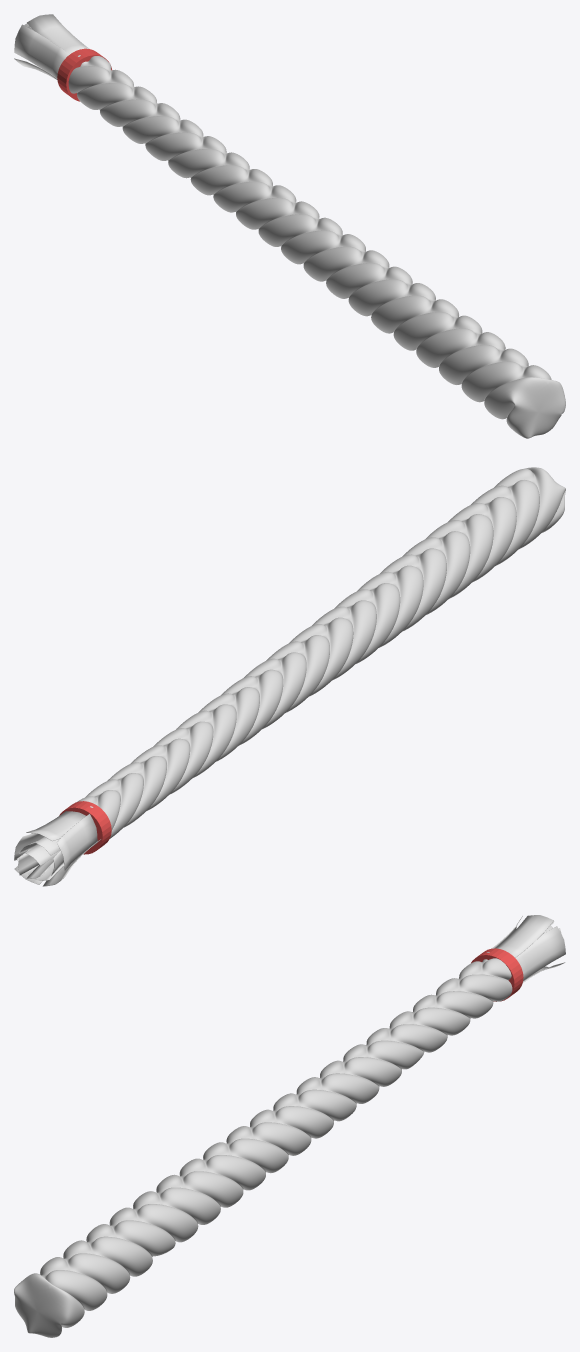
File: sweetgrass.fbx
3 renders of one model, top to bottom at view 1: azimuth 30°, elevation 25°; view 2: azimuth 150°, elevation 25°; view 3: azimuth 330°, elevation 25°, orthographic.
Visible parts, largest first — view 1: Cube.001, Plane.003, Plane, Cylinder; view 2: Cube.001, Plane.003, Cylinder, Plane; view 3: Cube.001, Plane.001, Plane, Cylinder.
Part boxes in pixels (x1,y1,x2,y2): Cube.001: (68,55,565,438); Plane.003: (14,24,69,78); Plane: (27,14,89,53); Cylinder: (57,48,111,101); Cube.001: (77,467,565,838); Plane.003: (57,813,97,870); Cylinder: (59,801,111,854); Plane: (26,811,85,840); Cube.001: (14,952,512,1337); Plane.001: (515,926,565,980); Plane: (495,915,553,957); Cylinder: (471,948,523,1001).
Bounding box in the file's own units: 163 × 163 × 2492.
